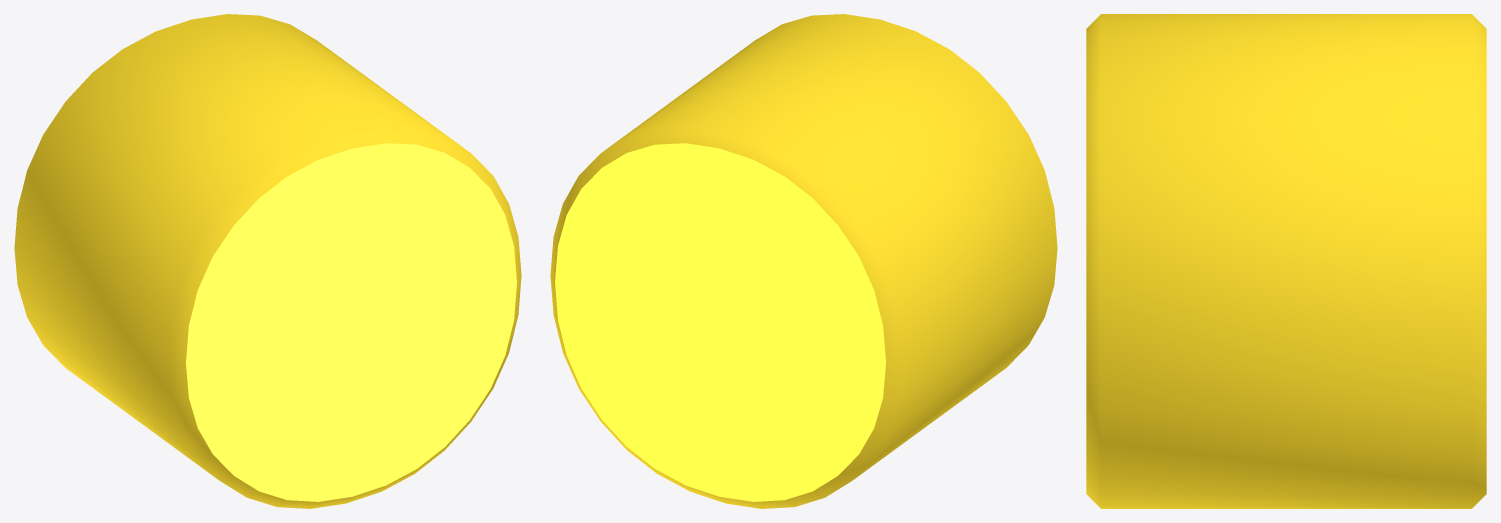
3 renders of one model, left to right at view 1: azimuth 30°, elevation 25°; view 2: azimuth 150°, elevation 25°; view 3: azimuth 270°, elevation 25°, orthographic. The views are drawn at different scales.
Parts seen in each view (by area): view 1: glyph; view 2: glyph; view 3: glyph.
Part boxes in pixels (left/top/right/bottom): glyph: left=14, top=14, right=521, bottom=508; glyph: left=550, top=14, right=1057, bottom=508; glyph: left=1086, top=14, right=1486, bottom=508.
Bounding box in the file's own units: 0.0198 × 0.0199 × 0.0162.
